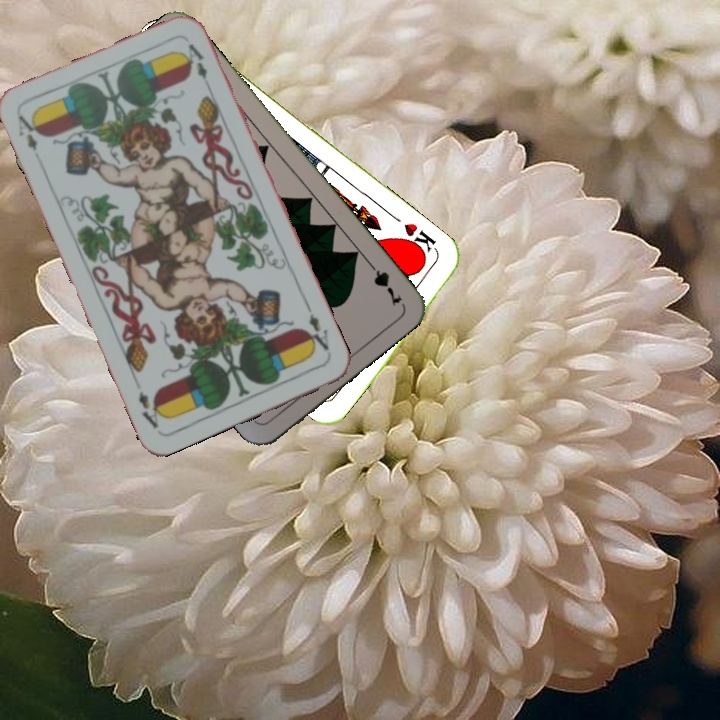EA: (301, 301, 332, 355), (14, 110, 44, 154)
G7: (362, 256, 405, 309)
HK: (397, 219, 442, 260)
